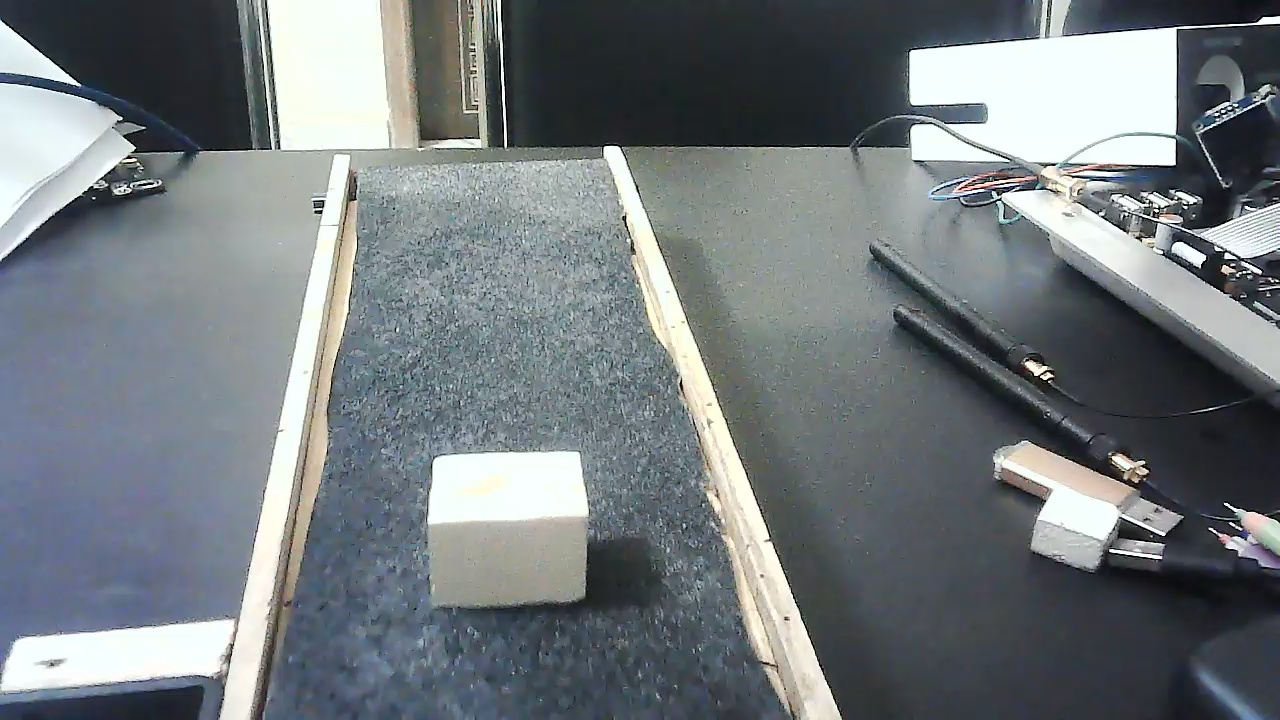Medium: (429, 449, 589, 609)
